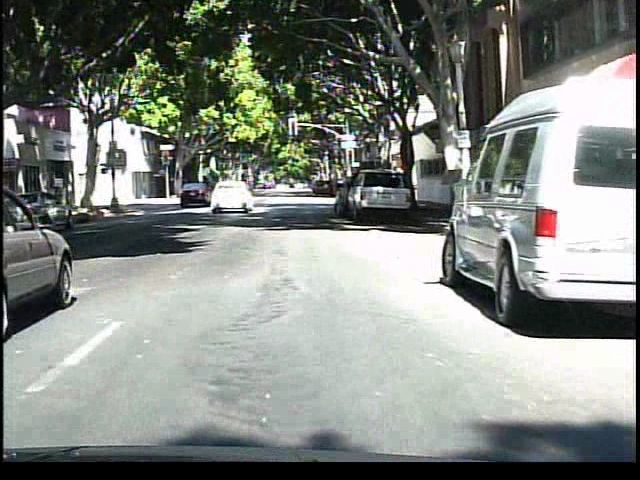person: (215, 171, 238, 208)
